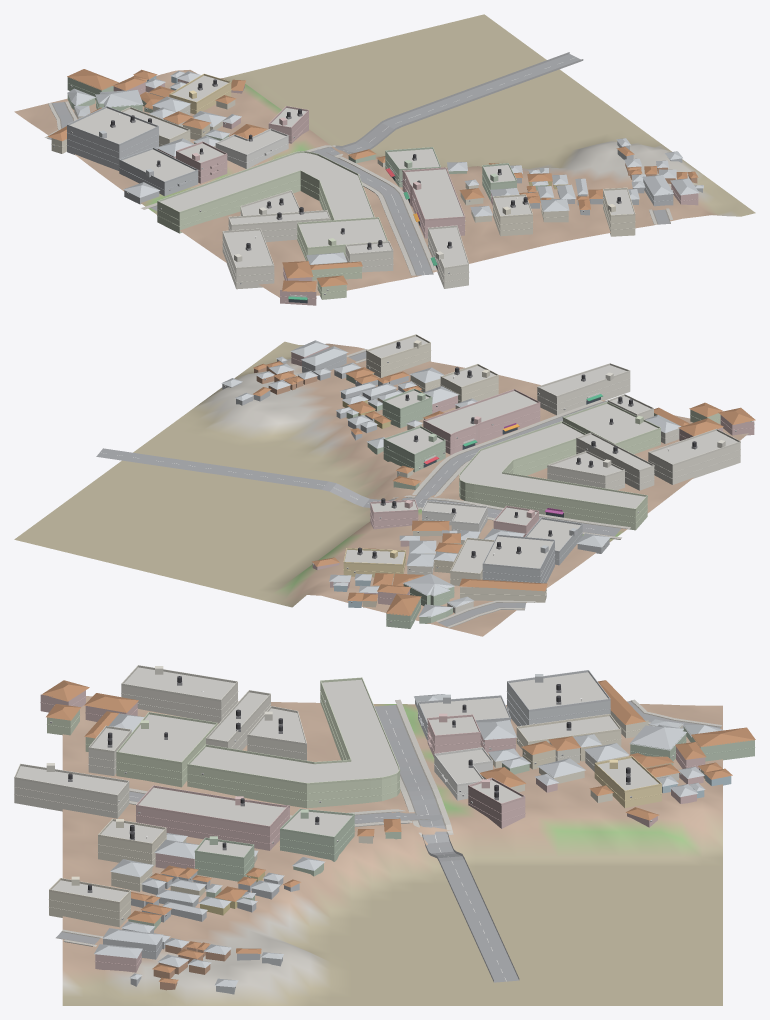
The picture shows the model from 3 angles, top to bottom: view 1: azimuth 30°, elevation 25°; view 2: azimuth 150°, elevation 25°; view 3: azimuth 270°, elevation 25°; orthographic projection. The views are drawn at different scales.
Visible parts, largest first — view 1: Terrain-col, Buildings-col, Details, Roads-col, Sidewalks-col; view 2: Buildings-col, Terrain-col, Details, Roads-col, Sidewalks-col; view 3: Terrain-col, Buildings-col, Details, Roads-col, Sidewalks-col.
Part boxes in pixels (x1=…): Terrain-col: x1=14, y1=14, x2=755, y2=301; Buildings-col: x1=48, y1=69, x2=703, y2=305; Details: x1=51, y1=73, x2=698, y2=303; Roads-col: x1=47, y1=52, x2=670, y2=275; Sidewalks-col: x1=44, y1=101, x2=672, y2=275; Buildings-col: x1=221, y1=336, x2=755, y2=628; Terrain-col: x1=14, y1=341, x2=748, y2=636; Details: x1=223, y1=334, x2=754, y2=622; Roads-col: x1=96, y1=351, x2=621, y2=626; Sidewalks-col: x1=346, y1=349, x2=630, y2=627; Terrain-col: x1=62, y1=696, x2=722, y2=1005; Buildings-col: x1=14, y1=667, x2=755, y2=994; Details: x1=14, y1=665, x2=755, y2=988; Roads-col: x1=56, y1=700, x2=720, y2=982; Sidewalks-col: x1=61, y1=699, x2=722, y2=946.
Bounding box in the file's own units: 269 × 26.15 × 288.
